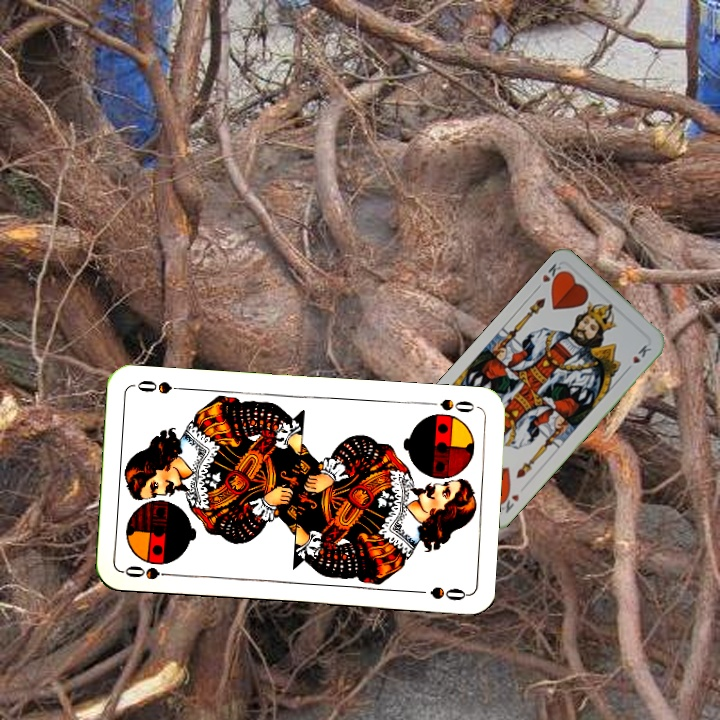HK: (531, 259, 567, 293), (492, 488, 522, 516)
SO: (120, 561, 179, 583), (421, 394, 480, 416)
